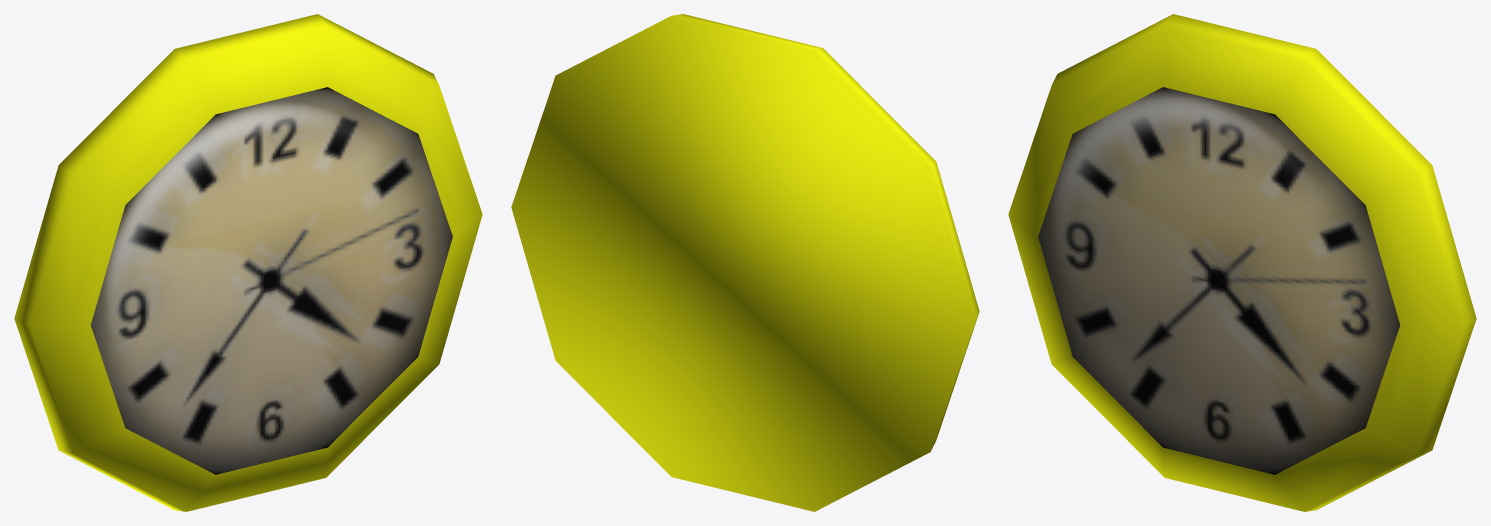
The model's file is Wall_Clock_J.FBX.
The picture shows the model from 3 angles, left to right: view 1: azimuth 30°, elevation 25°; view 2: azimuth 150°, elevation 25°; view 3: azimuth 330°, elevation 25°; orthographic projection.
Parts seen in each view (by area): view 1: Wall_Clock; view 2: Wall_Clock; view 3: Wall_Clock.
Boxes of the visible parts, x1,y1,x2,y2 form: Wall_Clock: (14, 14, 482, 511); Wall_Clock: (511, 14, 979, 511); Wall_Clock: (1008, 14, 1476, 511).
Size of the model in its own units: 130 by 124 by 12.52.
